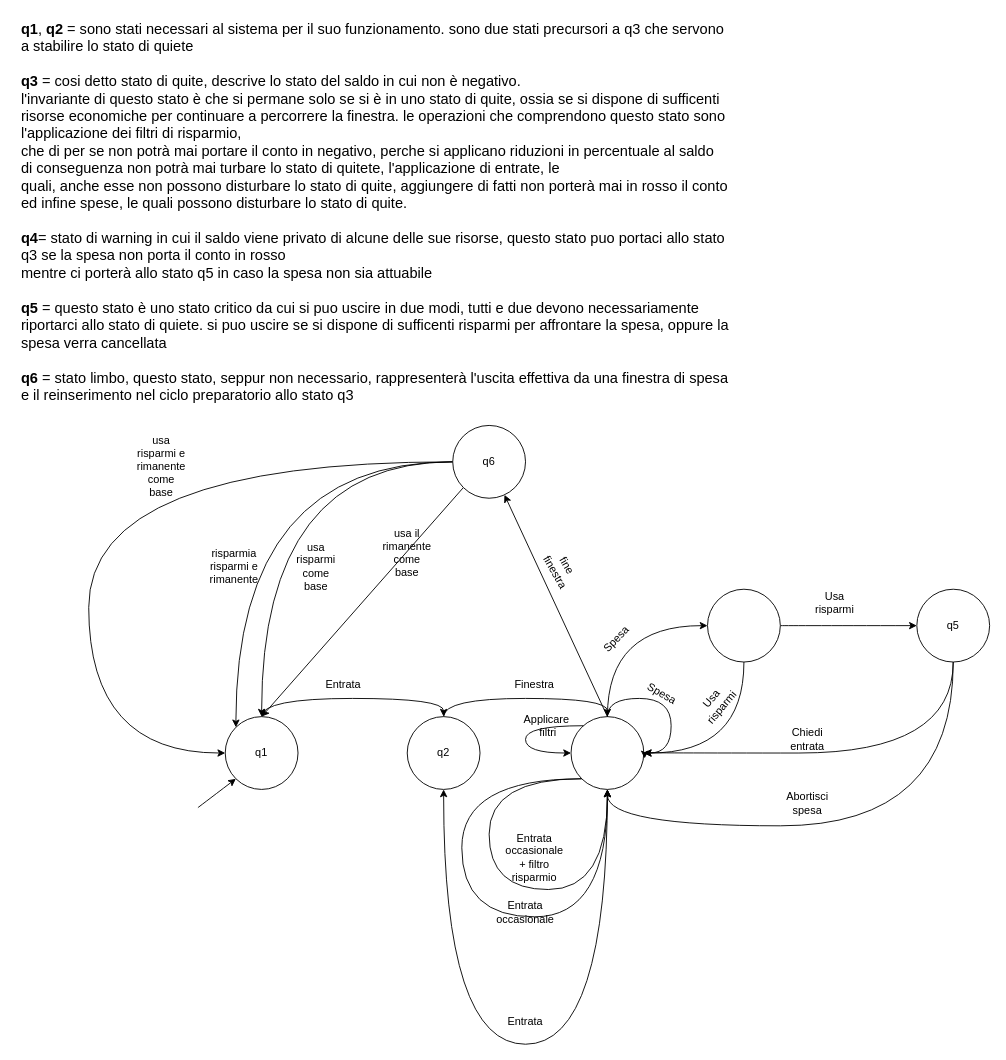
Image size: 1006x1060. Some labels were removed from this diagram. The shapes that lost their labels are listed below. From the top down, each one's box as (x1, y1, x2, y2) in pixels, then its label:
(707, 588, 780, 662): q4
(570, 716, 644, 789): q3
